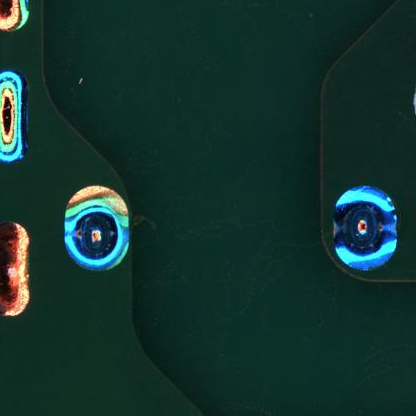spot: (53, 172, 136, 282), (325, 172, 400, 278)
